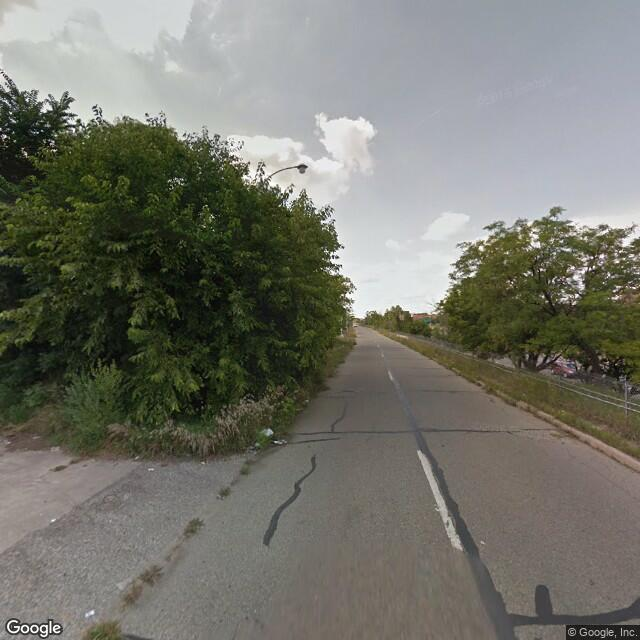litter: (254, 418, 286, 445), (78, 601, 102, 619), (140, 461, 160, 475), (44, 513, 62, 527)
